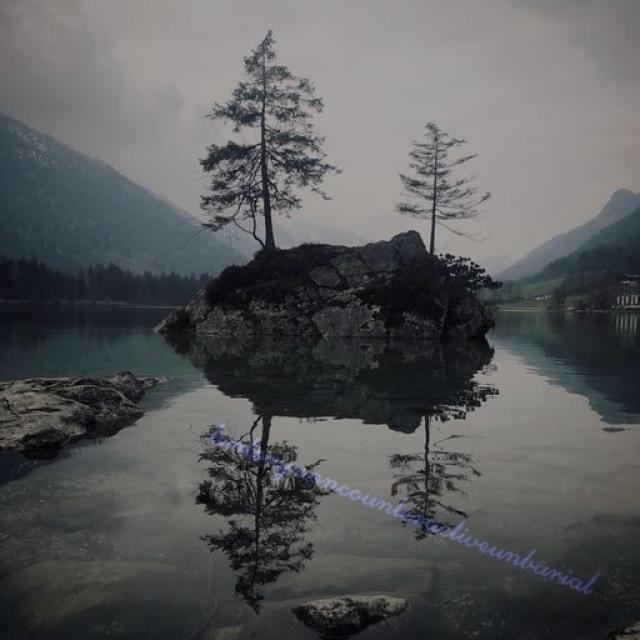watermark: (201, 416, 611, 600)
